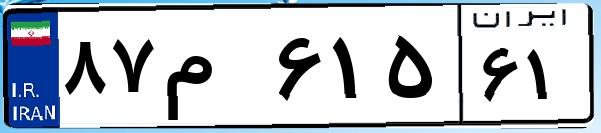1: (330, 28, 385, 110), (525, 38, 570, 115)
5: (385, 28, 445, 110)
6: (270, 28, 330, 110), (475, 38, 525, 113)
7: (110, 28, 158, 98)
8: (57, 26, 110, 100)
م: (158, 20, 270, 120)
